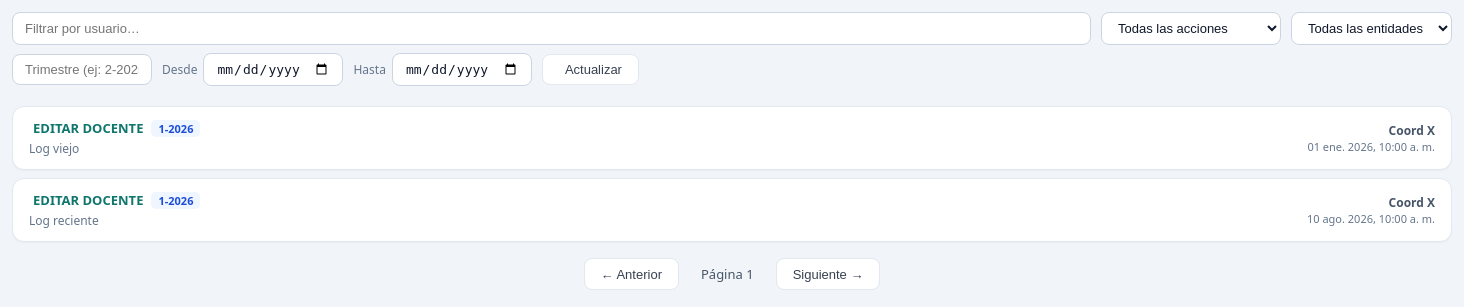
Test: TabAuditoria — filtros client-side (entidad, fecha) — get_audit_logs no los soporta server-side › el filtro 'Desde' excluye logs anteriores a esa fecha
Check: the text "Log viejo" is shown, box x1=29 y1=140 x2=79 y2=157
Type "2026-06-01" into the date field next to "Desde".
click(273, 70); type("2026-06-01")  # box x1=203 y1=53 x2=343 y2=86
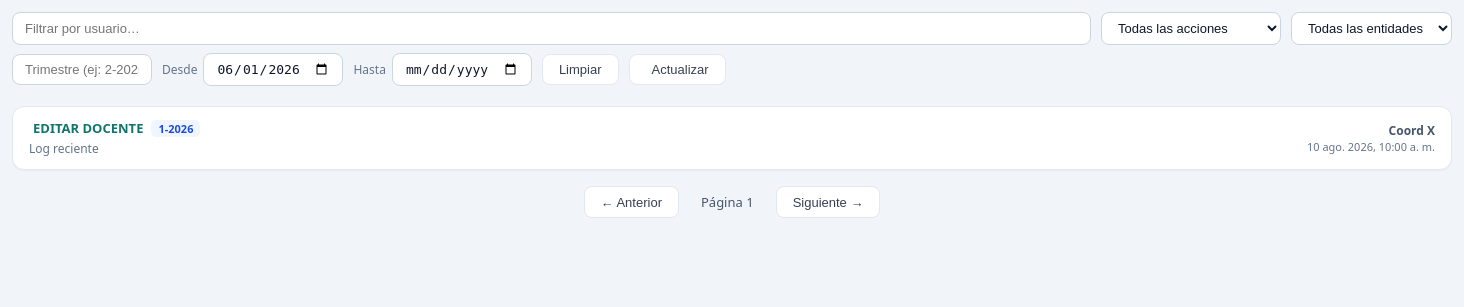
Check: the text "Log reciente" is shown, box x1=29 y1=140 x2=99 y2=157
Check: the text "Log viejo" is gone
